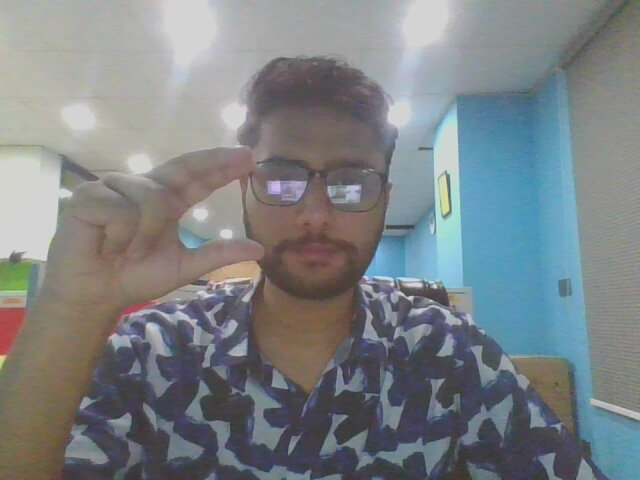no: (34, 129, 268, 347)
